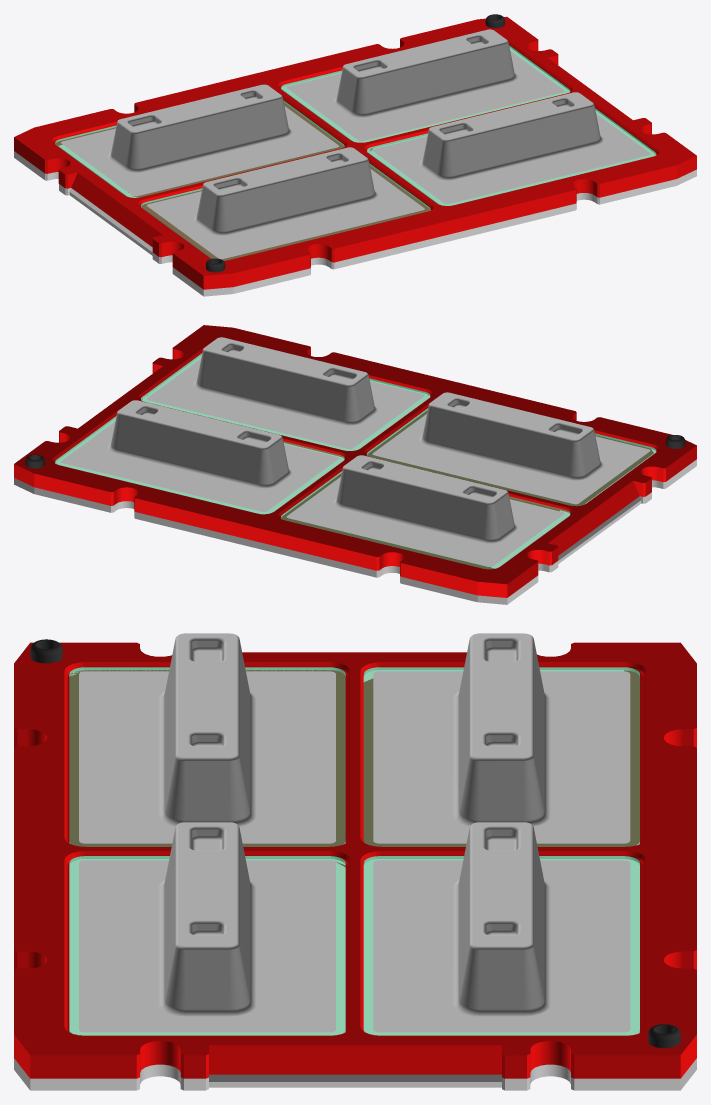
Rendered from WS Final Pallet.fbx.
The picture shows the model from 3 angles, top to bottom: view 1: azimuth 30°, elevation 25°; view 2: azimuth 150°, elevation 25°; view 3: azimuth 270°, elevation 25°; orthographic projection. The views are drawn at different scales.
Visible parts, largest first — view 1: WS_Final Pallet, Cover Top 3.1, Cover Top 4.1, Cover Top1.1, Cover Top 2.1, Cover Bottom 1.1, Cover Bottom 2.1, Cover Bottom 3.1, Cover Bottom 4.1; view 2: WS_Final Pallet, Cover Top 2.1, Cover Top 4.1, Cover Top1.1, Cover Top 3.1, Cover Bottom 3.1, Cover Bottom 4.1, Cover Bottom 1.1, Cover Bottom 2.1; view 3: WS_Final Pallet, Cover Top 3.1, Cover Top1.1, Cover Top 4.1, Cover Top 2.1, Cover Bottom 3.1, Cover Bottom 1.1, Cover Bottom 4.1, Cover Bottom 2.1.
Part boxes in pixels (x1,y1,x2,y2): WS_Final Pallet: (14,14,696,296); Cover Top 3.1: (286,29,564,141); Cover Top 4.1: (61,84,338,196); Cover Top1.1: (372,92,650,203); Cover Top 2.1: (147,147,424,259); Cover Bottom 1.1: (367,108,656,205); Cover Bottom 2.1: (141,163,430,260); Cover Bottom 3.1: (281,45,570,142); Cover Bottom 4.1: (55,100,344,197); WS_Final Pallet: (14,325,696,604); Cover Top 2.1: (372,392,650,504); Cover Top 4.1: (286,455,564,566); Cover Top1.1: (147,337,424,449); Cover Top 3.1: (61,400,338,511); Cover Bottom 3.1: (55,416,344,514); Cover Bottom 4.1: (281,471,570,569); Cover Bottom 1.1: (141,353,430,450); Cover Bottom 2.1: (366,408,656,506); WS_Final Pallet: (14,639,696,1090); Cover Top 3.1: (373,822,630,1032); Cover Top1.1: (79,822,335,1032); Cover Top 4.1: (373,633,630,843); Cover Top 2.1: (79,633,335,843); Cover Bottom 3.1: (363,856,639,1035); Cover Bottom 1.1: (69,856,345,1035); Cover Bottom 4.1: (363,667,639,846); Cover Bottom 2.1: (69,667,345,846).
Size of the model in its own units: 0.3337 by 0.0356 by 0.2335.
